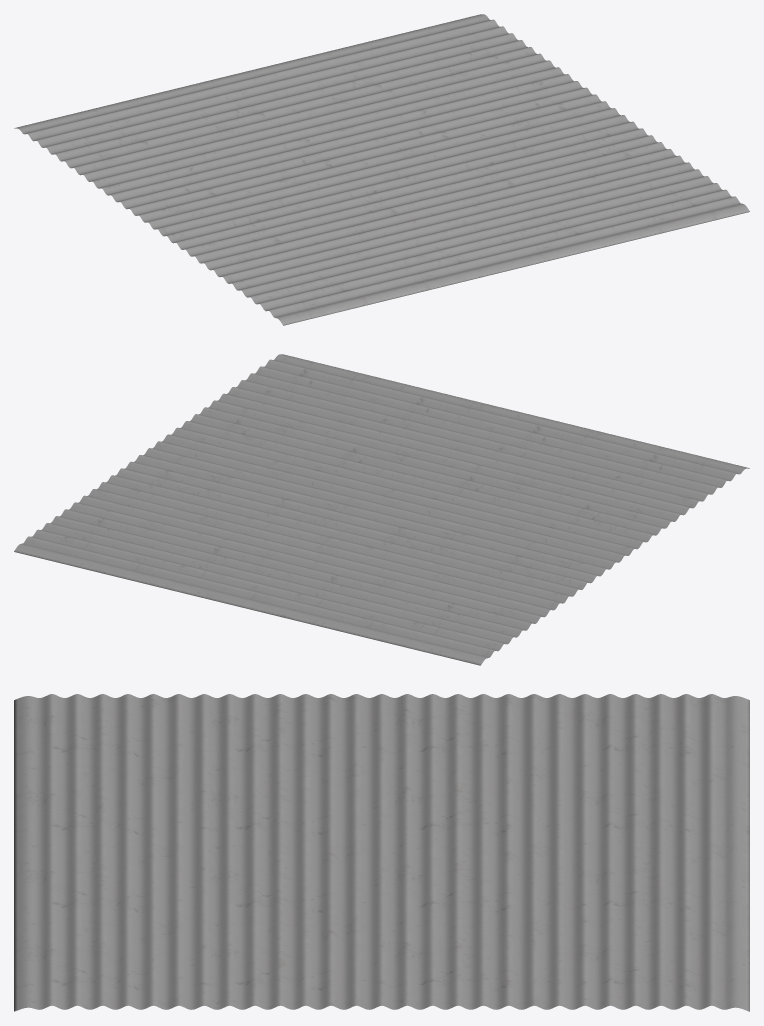
Rendered from SM_Ceiling_Metal.fbx.
3 renders of one model, top to bottom at view 1: azimuth 30°, elevation 25°; view 2: azimuth 150°, elevation 25°; view 3: azimuth 270°, elevation 25°, orthographic. The views are drawn at different scales.
Visible parts, largest first — view 1: SM_Ceiling_Metal_LOD0; view 2: SM_Ceiling_Metal_LOD0; view 3: SM_Ceiling_Metal_LOD0.
Part boxes in pixels (x1,y1,x2,y2): SM_Ceiling_Metal_LOD0: [14, 14, 749, 325]; SM_Ceiling_Metal_LOD0: [14, 354, 749, 665]; SM_Ceiling_Metal_LOD0: [14, 694, 749, 1011].
Size of the model in its own units: 300 by 300 by 3.12.
